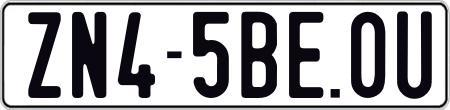0: (349, 11, 389, 100)
4: (117, 9, 158, 100)
5: (190, 12, 228, 103)
B: (239, 10, 275, 97)
E: (286, 9, 320, 96)
N: (71, 10, 110, 101)
U: (395, 10, 432, 99)
Z: (26, 9, 61, 100)
